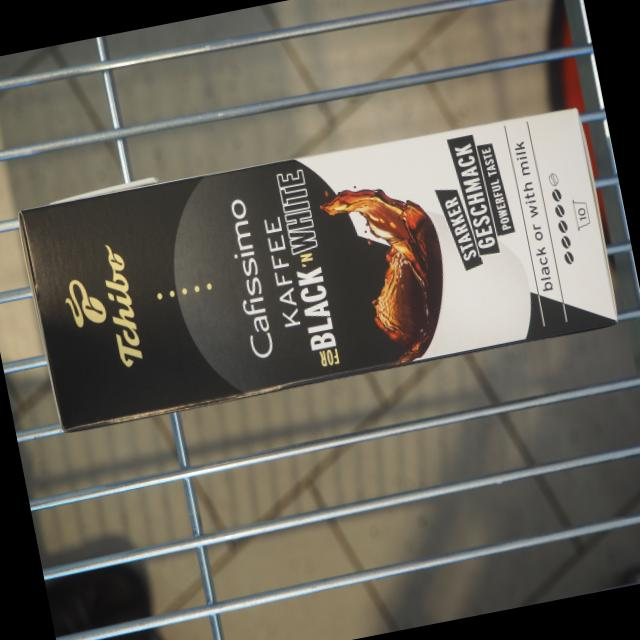Simo Kaffee BW: (14, 103, 623, 434)
